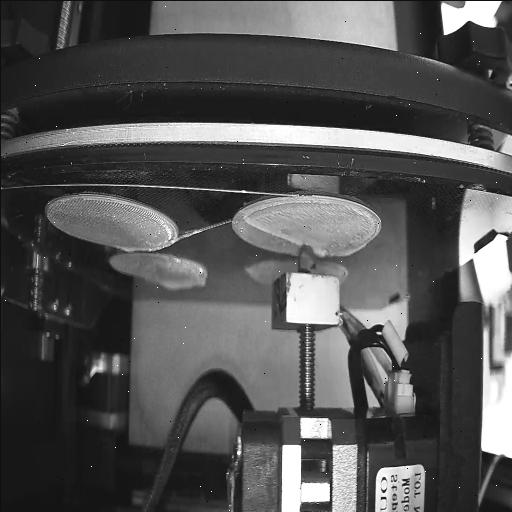over_extrusion: (242, 213, 300, 245), (159, 266, 217, 292), (333, 238, 365, 258), (116, 243, 134, 253), (340, 264, 348, 282), (314, 247, 324, 257)
